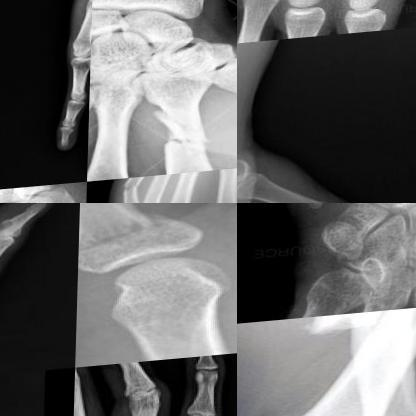fracture: (290, 309, 415, 361), (79, 209, 172, 268), (159, 125, 222, 165), (118, 181, 148, 202)
